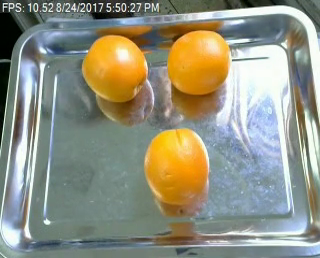Orange: (144, 127, 210, 205), (81, 35, 150, 101), (166, 29, 230, 93)
